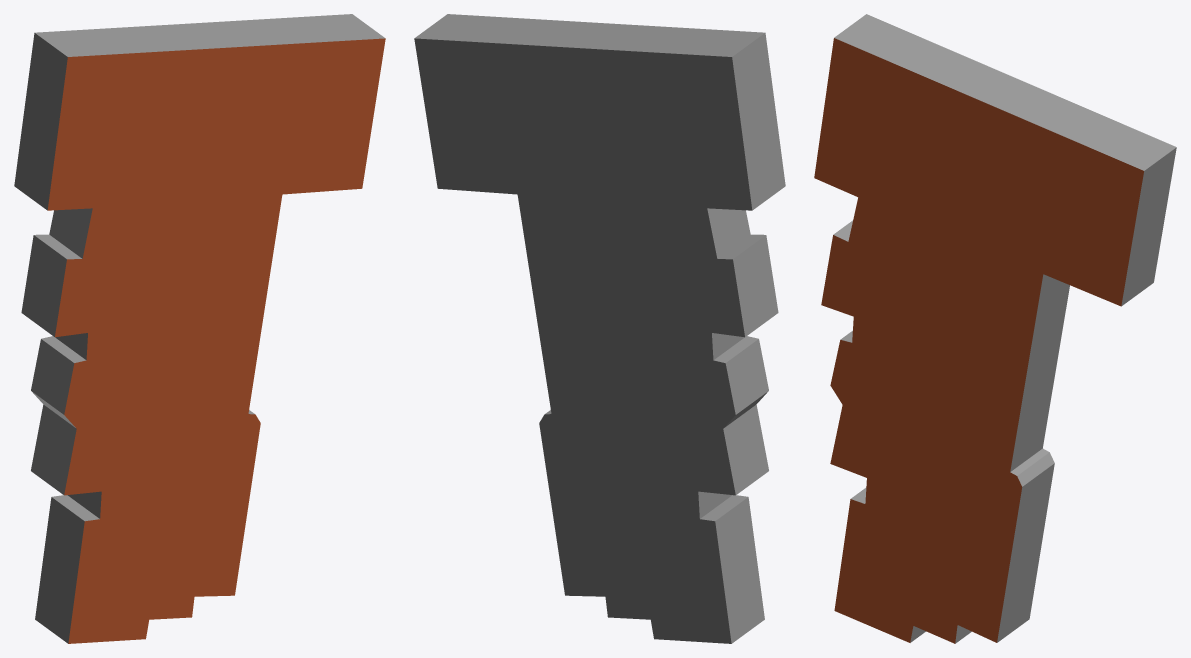
The model's file is construction_5296_assumed_A_Casa_h6m.obj.
3 views of the same model, side by side, from view 1: azimuth 30°, elevation 25°; view 2: azimuth 150°, elevation 25°; view 3: azimuth 330°, elevation 25° (orthographic). The views are drawn at different scales.
Visible parts, largest first — view 1: construction_5296_assumed_A_Casa; view 2: construction_5296_assumed_A_Casa; view 3: construction_5296_assumed_A_Casa.
Boxes of the visible parts, x1=… form: construction_5296_assumed_A_Casa: x1=14, y1=14, x2=385, y2=643; construction_5296_assumed_A_Casa: x1=414, y1=14, x2=785, y2=643; construction_5296_assumed_A_Casa: x1=814, y1=14, x2=1176, y2=643.
Size of the model in its own units: 35.09 by 59.62 by 6.
